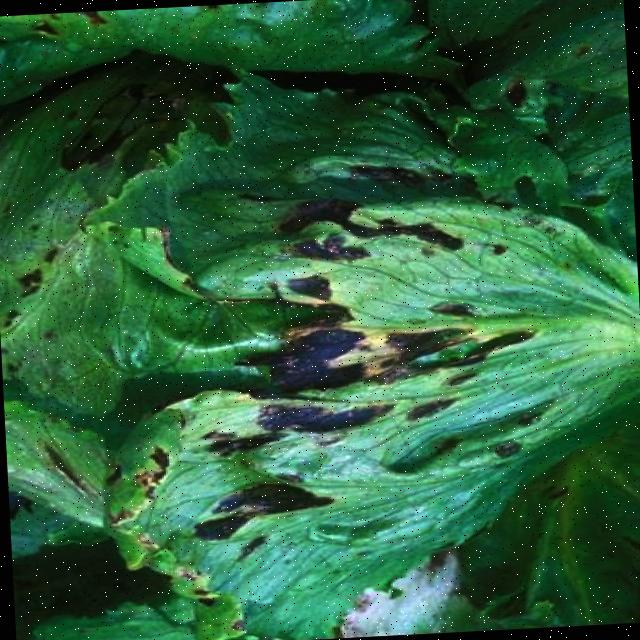Bacterial: (183, 185, 594, 540)
